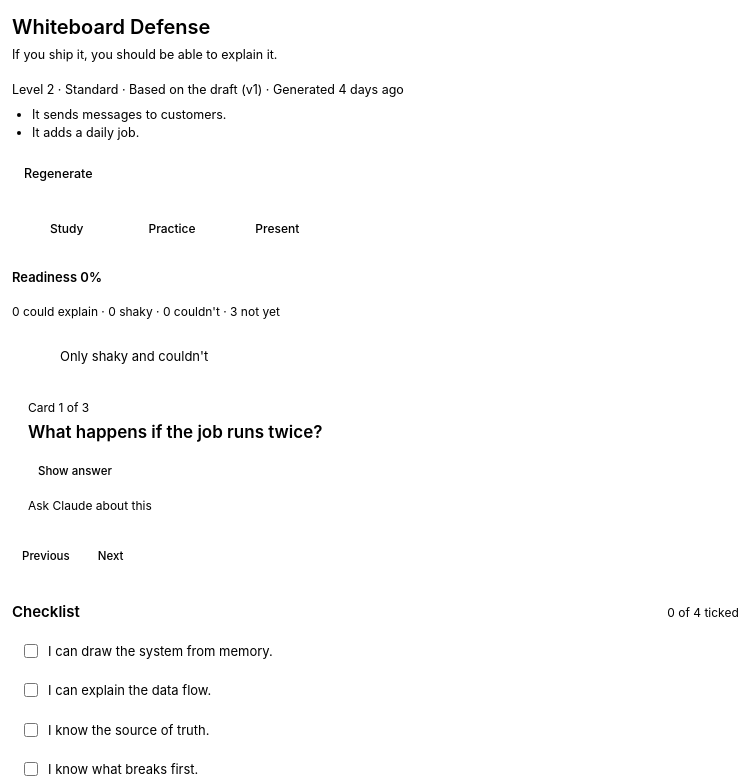
Test: Practice › says why a rating was refused
The width and height of the screenshot is (755, 780).
Click the button with test id "show-answer".
click(75, 471)  # box left=28, top=459, right=122, bottom=484
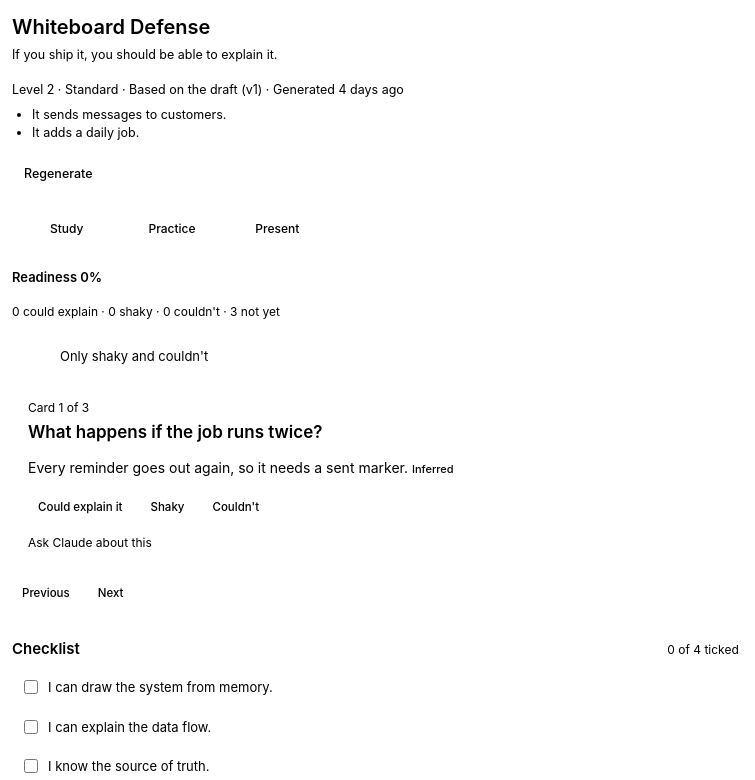
Click the button "Couldn't".
click(236, 508)  # box left=202, top=495, right=269, bottom=521
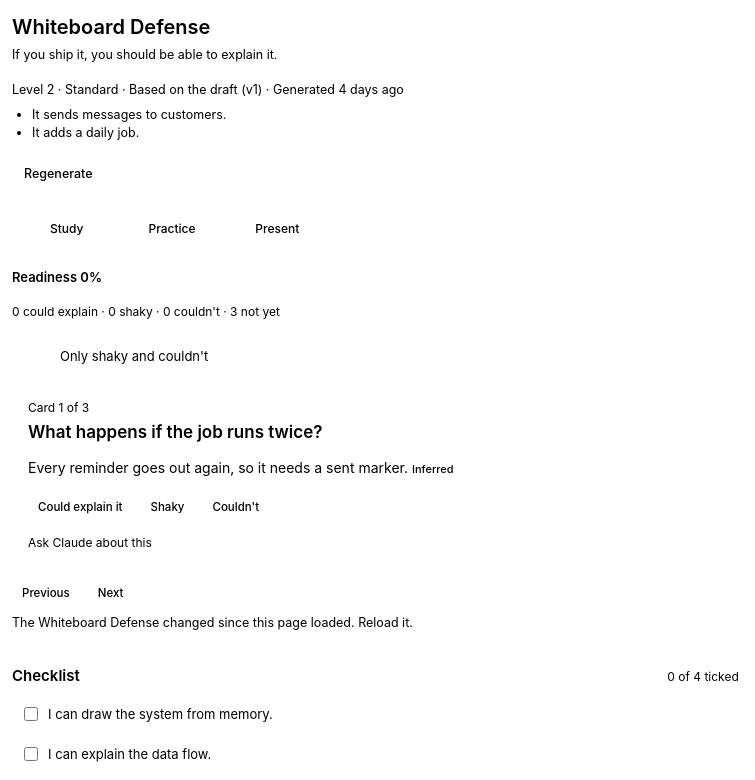
Check: the element with test id "flashcard" shows "Card 1 of 3", box left=28, top=400, right=454, bottom=552
Check: the message reads "The Whiteboard Defense changed since this page loaded. Reload it.", box left=12, top=615, right=413, bottom=630
